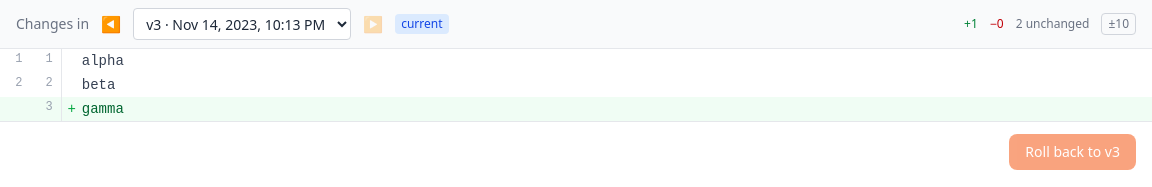
Test: VfsHistory › labels the oldest kept version when older ones were dropped
The image size is (1152, 187).
Expected: the text "gamma" is shown, [82,101,124,117]
Click the button named "Previous version": (111, 24) [95,8,127,40]
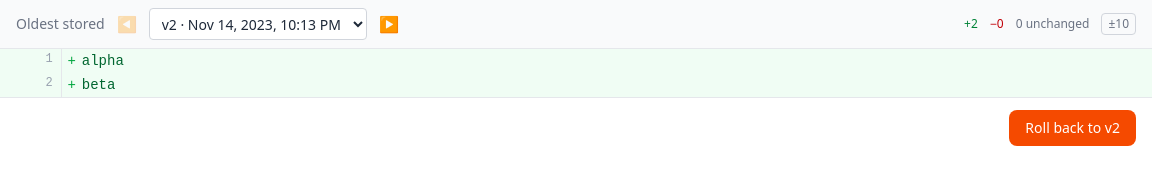
Now the text "Oldest stored" is shown, box [16,14,105,34]
